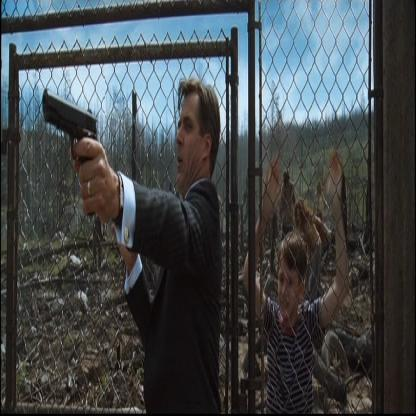gun: (39, 61, 107, 223)
